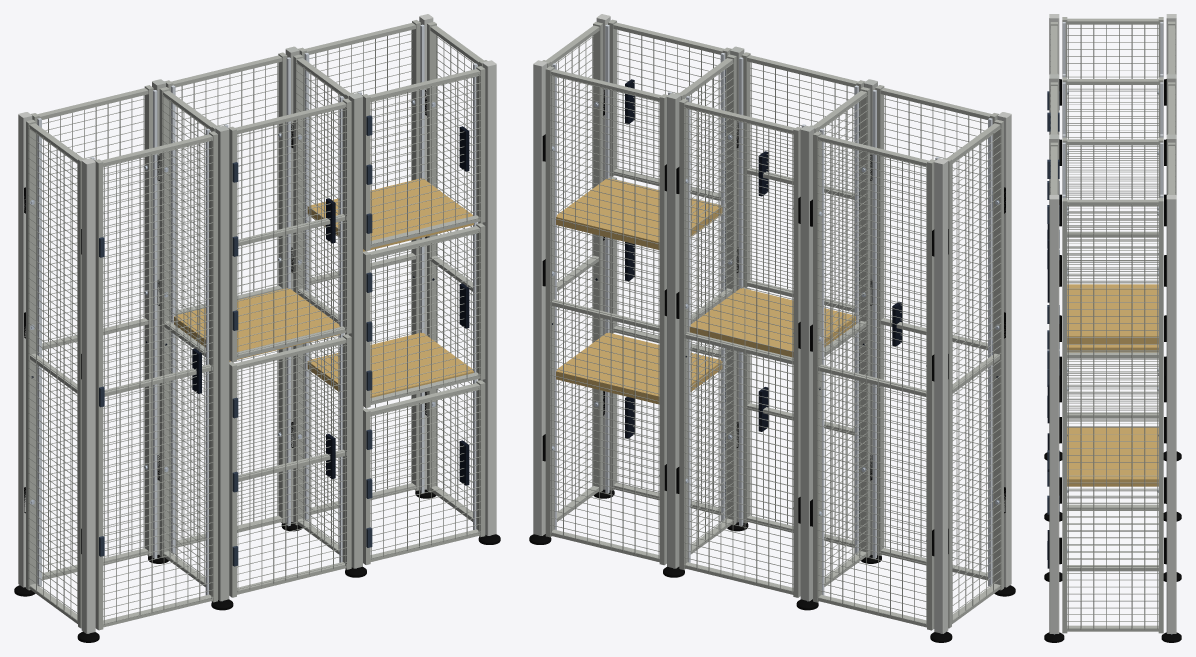
Rendered from ks-studio-2026-05-07-1319.glb.
3 renders of one model, left to right at view 1: azimuth 30°, elevation 25°; view 2: azimuth 150°, elevation 25°; view 3: azimuth 270°, elevation 25°, orthographic. The views are drawn at different scales.
Visible parts, largest first — view 1: post-3N (×4), post-4N (×4), grid-west-vertical-profile-1 (×3), grid-north-vertical-profile-2 (×3), compartment-divider-1 (×2), door-grid-south-1-vertical-profile-2 (×3), door-grid-south-1-vertical-profile-1 (×3), inner-rib-1 (×3), inner-rib-2 (×3), inner-rib-3 (×3), compartment-divider-2, door-grid-south-2-vertical-profile-2 (×2) (+36 smaller); view 2: post-3N (×4), post-4N (×4), grid-west-vertical-profile-2 (×3), grid-north-vertical-profile-2 (×3), compartment-divider-1 (×2), grid-north-vertical-profile-1 (×3), door-grid-south-1-vertical-profile-2 (×3), inner-rib-4 (×3), inner-rib-3 (×3), compartment-divider-2, inner-rib-2 (×3), grid-east-vertical-profile-2 (+28 smaller); view 3: post-3N (×4), compartment-divider-1 (×2), compartment-divider-2, grid-east-vertical-profile-1, grid-east-vertical-profile-2, grid-west-horizontal-rail-1887 (×3), grid-west-horizontal-rail-965 (×2), grid-west-horizontal-rail-44 (×2), post-4N (×4), grid-north-horizontal-rail-1887 (×3), door-grid-south-1-horizontal-rail-1887 (×3), grid-east-vertical-wire-2 (+12 smaller).
Part boxes in pixels (box(x1,y1,x2,y2)): post-3N (×4): box(18, 14, 496, 633); post-4N (×4): box(152, 46, 362, 601); grid-west-vertical-profile-1 (×3): box(26, 54, 303, 590); grid-north-vertical-profile-2 (×3): box(144, 20, 420, 556); compartment-divider-1 (×2): box(174, 288, 473, 397); door-grid-south-1-vertical-profile-2 (×3): box(209, 66, 485, 602); door-grid-south-1-vertical-profile-1 (×3): box(94, 94, 370, 630); inner-rib-1 (×3): box(37, 53, 309, 586); inner-rib-2 (×3): box(153, 24, 424, 558); inner-rib-3 (×3): box(205, 63, 477, 595); compartment-divider-2: box(307, 178, 473, 251); door-grid-south-2-vertical-profile-2 (×2): box(342, 223, 485, 569); post-3N (×4): box(533, 14, 1011, 633); post-4N (×4): box(667, 46, 877, 601); grid-west-vertical-profile-2 (×3): box(726, 54, 1003, 590); grid-north-vertical-profile-2 (×3): box(545, 66, 821, 602); compartment-divider-1 (×2): box(556, 288, 855, 404); grid-north-vertical-profile-1 (×3): box(659, 94, 935, 630); door-grid-south-1-vertical-profile-2 (×3): box(608, 19, 884, 555); inner-rib-4 (×3): box(720, 53, 992, 586); inner-rib-3 (×3): box(605, 24, 876, 558); compartment-divider-2: box(556, 178, 722, 249); inner-rib-2 (×3): box(552, 63, 824, 595); grid-east-vertical-profile-2: box(593, 22, 602, 492); post-3N (×4): box(1049, 14, 1176, 633); compartment-divider-1 (×2): box(1067, 344, 1158, 486); compartment-divider-2: box(1067, 284, 1158, 343); grid-east-vertical-profile-1: box(1158, 198, 1163, 633); grid-east-vertical-profile-2: box(1062, 198, 1067, 633); grid-west-horizontal-rail-1887 (×3): box(1067, 18, 1158, 145); grid-west-horizontal-rail-965 (×2): box(1067, 231, 1158, 357); grid-west-horizontal-rail-44 (×2): box(1067, 505, 1158, 571); post-4N (×4): box(1049, 74, 1176, 194); grid-north-horizontal-rail-1887 (×3): box(1168, 25, 1174, 193); door-grid-south-1-horizontal-rail-1887 (×3): box(1051, 25, 1057, 194); grid-east-vertical-wire-2: box(1144, 204, 1145, 629).
Bounding box in the file's own units: 1.76 × 1.91 × 0.539.
